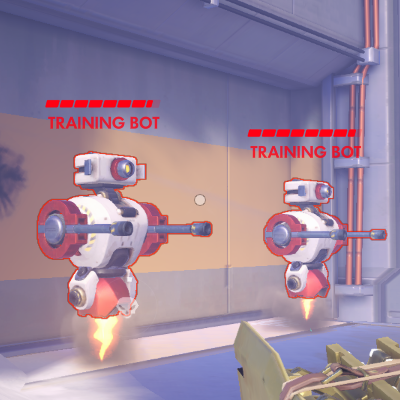hpbar: (247, 128, 362, 138), (45, 99, 160, 108)
